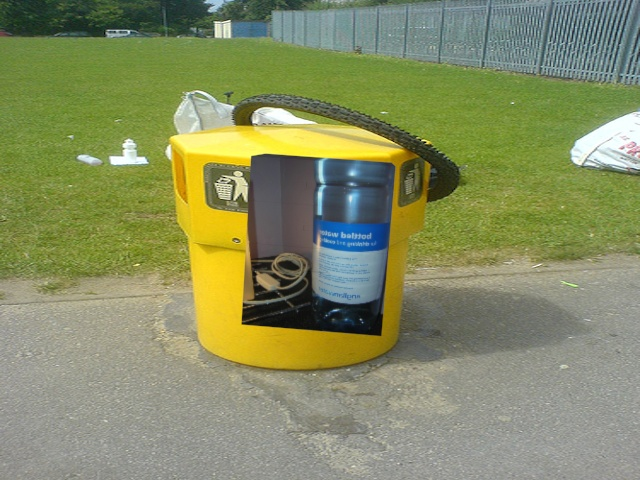file_cabinet: (240, 144, 401, 344)
